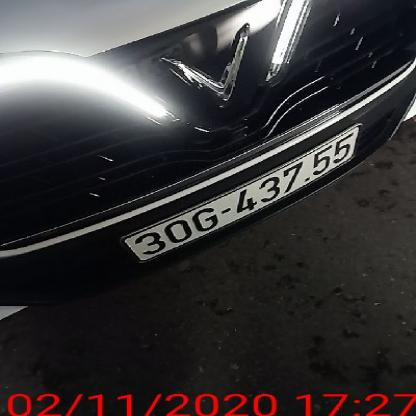biensoxe: (123, 124, 361, 265)
